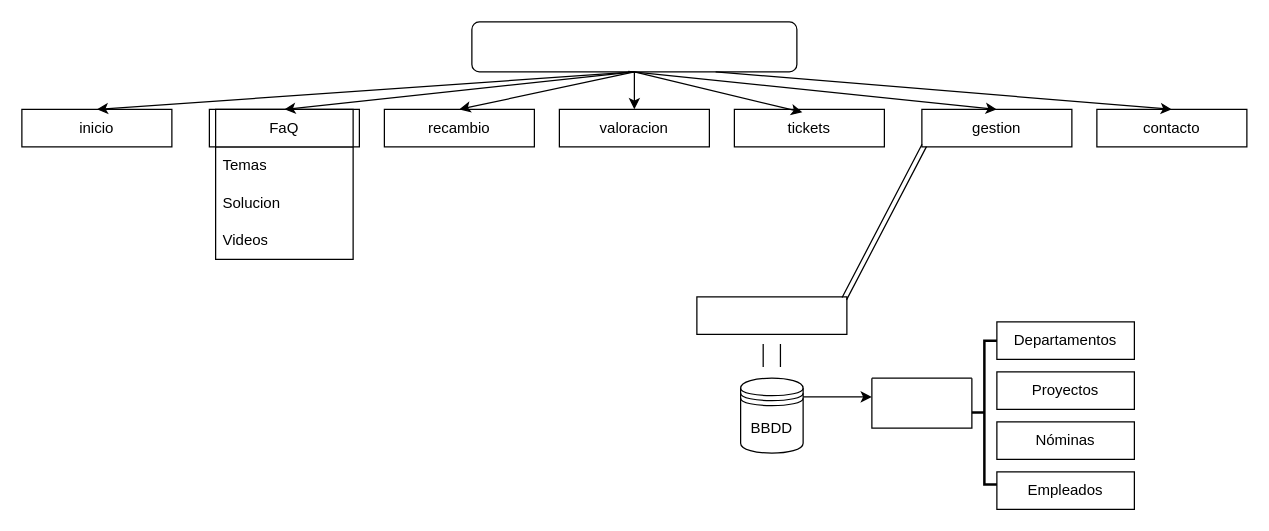
This 1269x531 diagram has some shape labels left out. The shapes that lost their labels are listed below. From the top down, each one's centre as x and y in pixels, then its label:
At (x=634, y=46): "Web de incidencias".
At (x=771, y=315): "Codigo BBDD gestion".
At (x=921, y=402): "Workbench".
